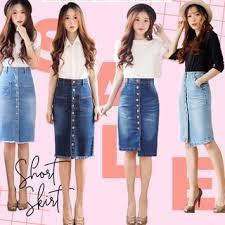skirt: (52, 78, 96, 161), (116, 77, 160, 158), (175, 72, 215, 145), (1, 67, 37, 145)
